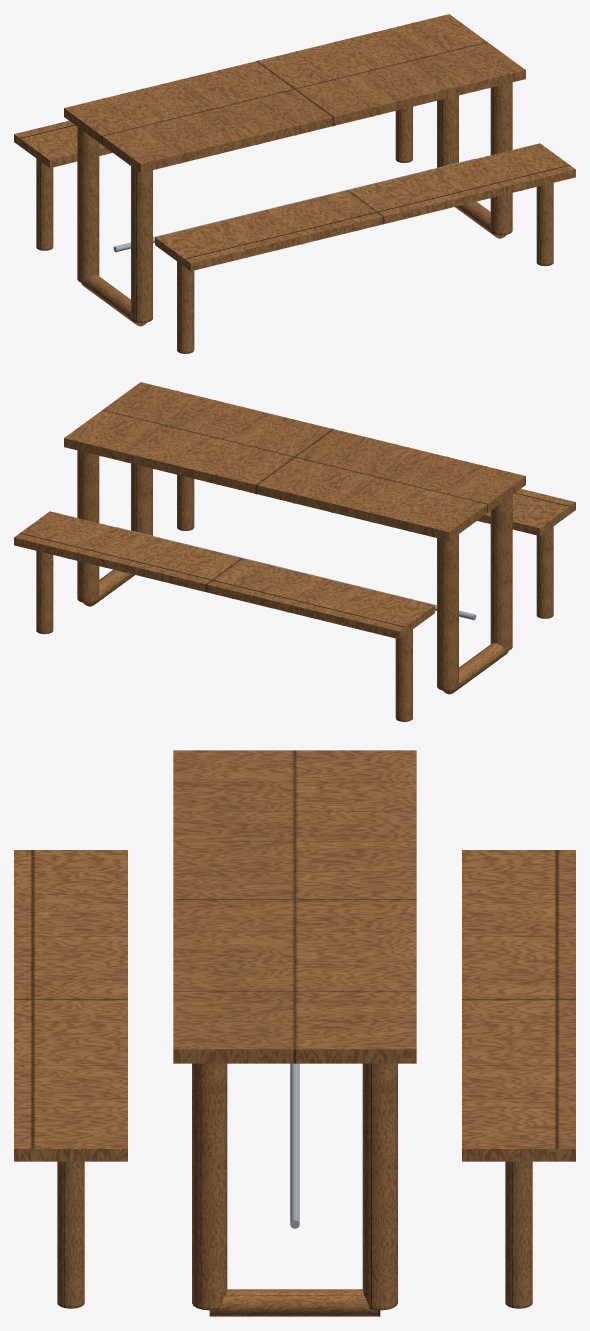
The model's file is Sorgarnitura_4_szemelyes.obj.
The picture shows the model from 3 angles, top to bottom: view 1: azimuth 30°, elevation 25°; view 2: azimuth 150°, elevation 25°; view 3: azimuth 270°, elevation 25°; orthographic projection. The views are drawn at different scales.
Bounding box in the file's own units: 1.8 × 0.776 × 1.43.
2 materials, 1 textured.
